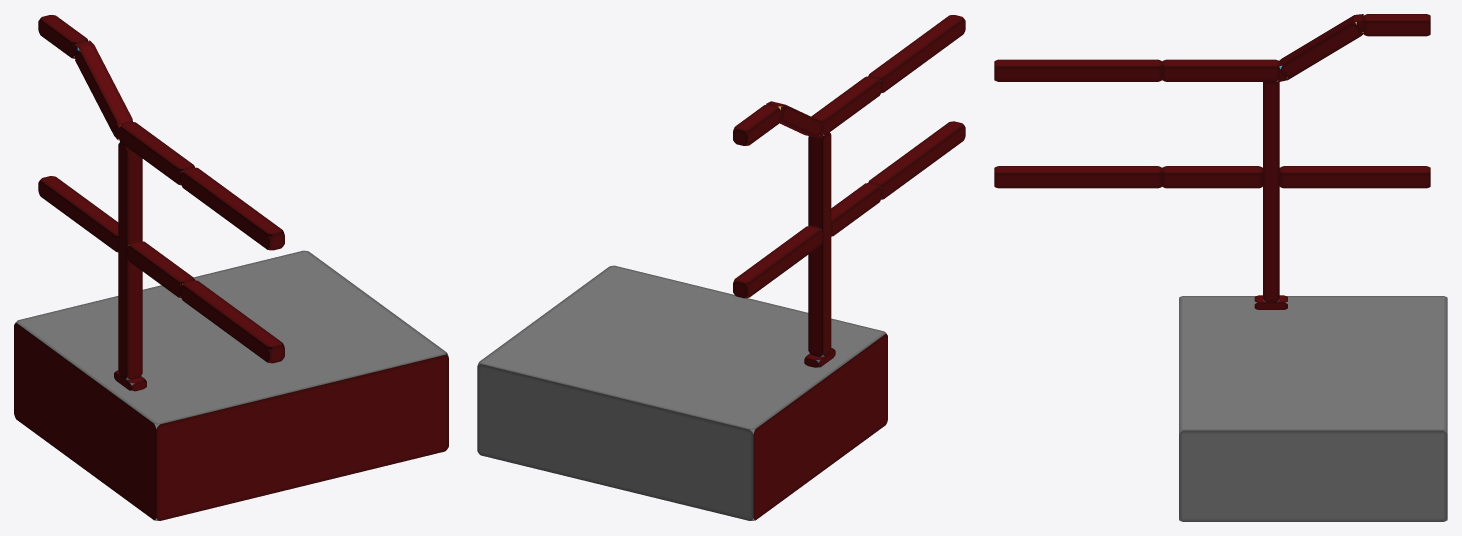
File: df7g_floor_c.obj
3 renders of one model, left to right at view 1: azimuth 30°, elevation 25°; view 2: azimuth 150°, elevation 25°; view 3: azimuth 270°, elevation 25°, orthographic. The views are drawn at different scales.
Parts seen in each view (by area): view 1: df7g_floor_c; view 2: df7g_floor_c; view 3: df7g_floor_c.
Boxes of the visible parts, x1,y1,x2,y2 form: df7g_floor_c: [14, 15, 448, 520]; df7g_floor_c: [477, 15, 965, 520]; df7g_floor_c: [994, 14, 1447, 521].
Size of the model in its own units: 1.19 by 1.56 by 1.69.
